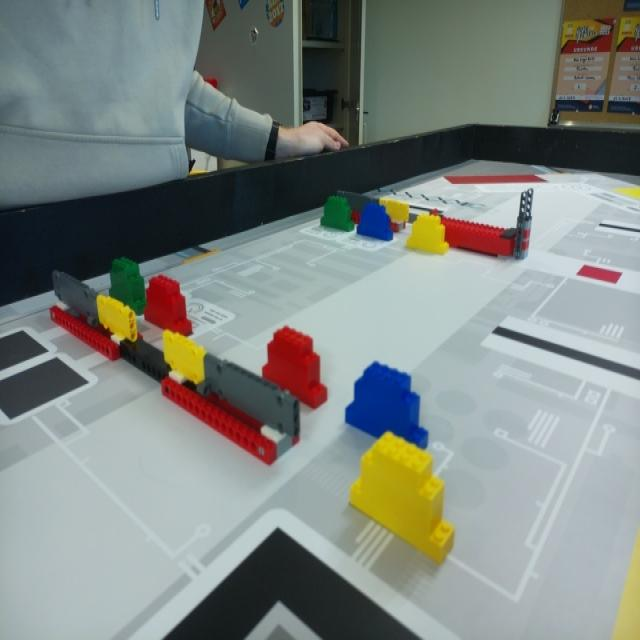blau: (344, 358, 429, 445), (358, 200, 394, 242)
gruen: (109, 254, 146, 312), (318, 192, 355, 232)
rot: (260, 323, 329, 410), (147, 273, 191, 338)
yellow: (346, 435, 454, 564), (408, 214, 446, 255)
